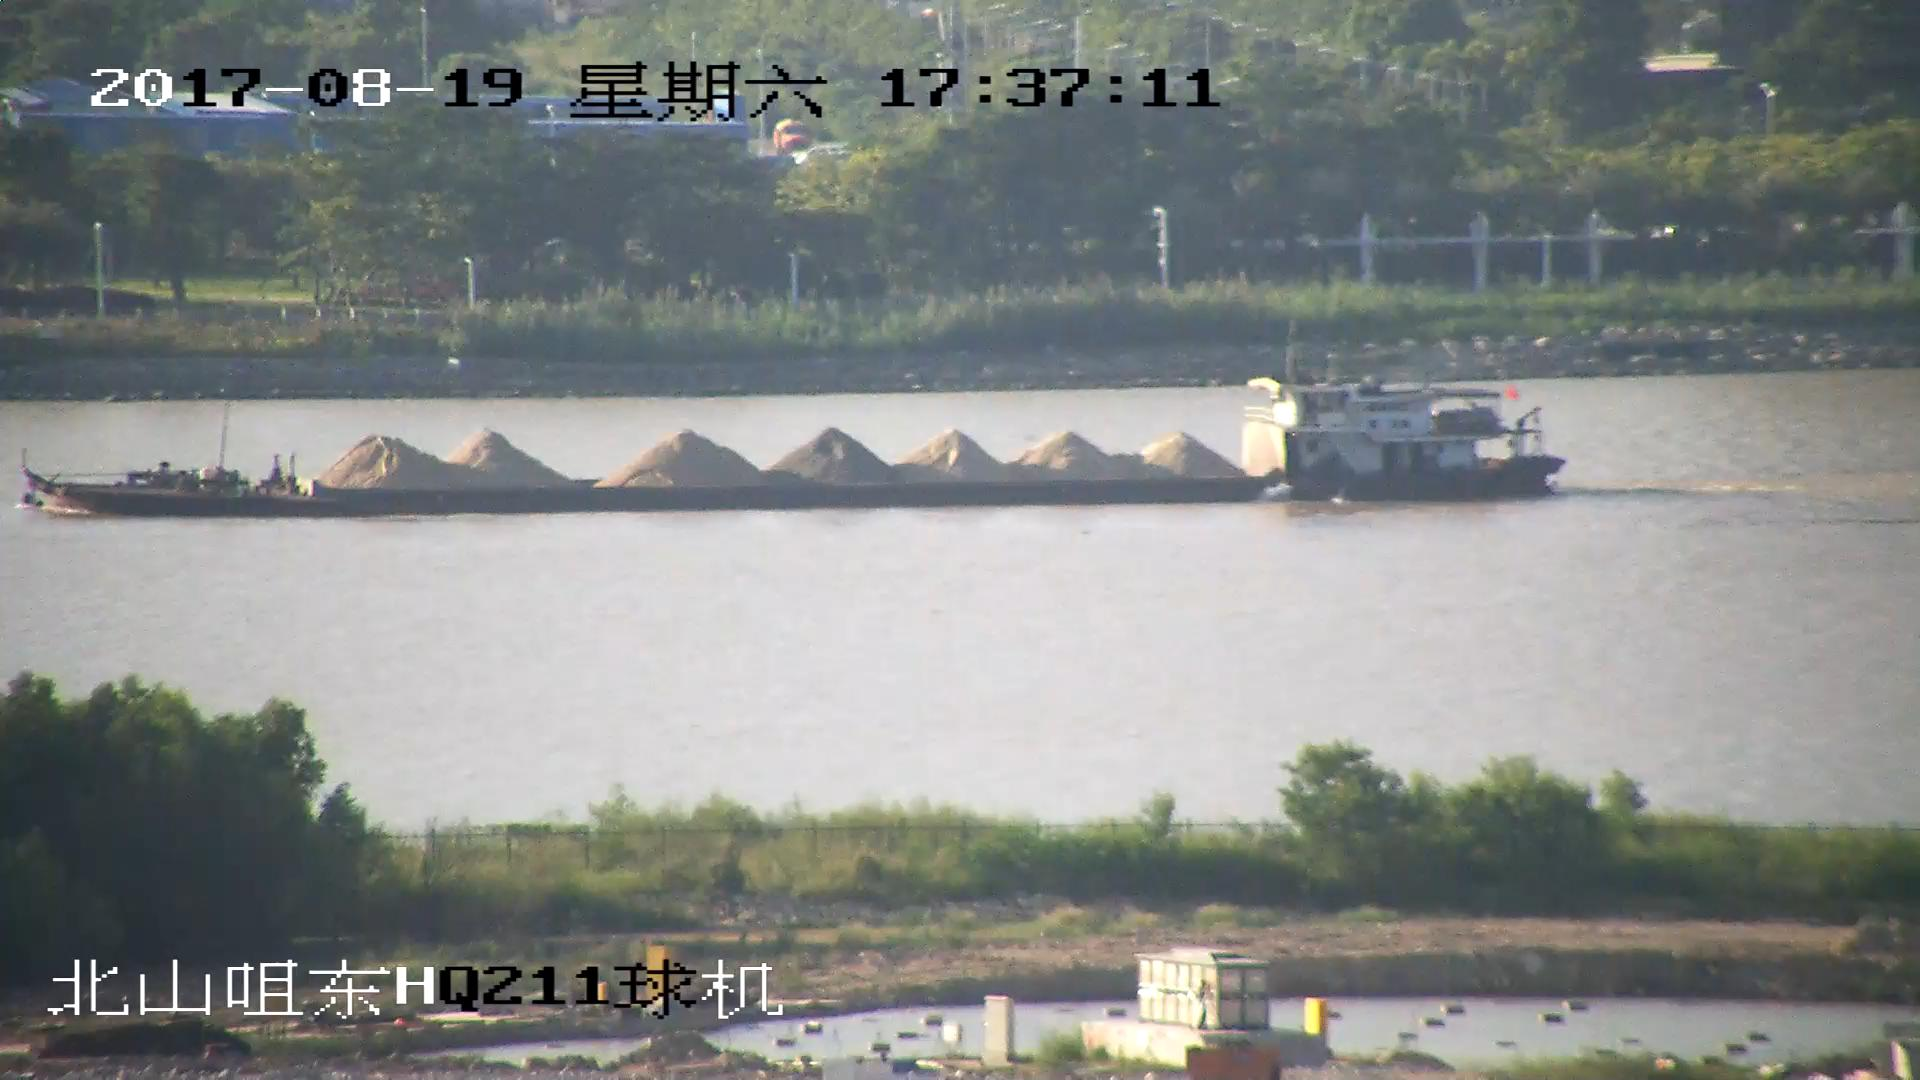ore carrier: (14, 346, 1570, 512)
